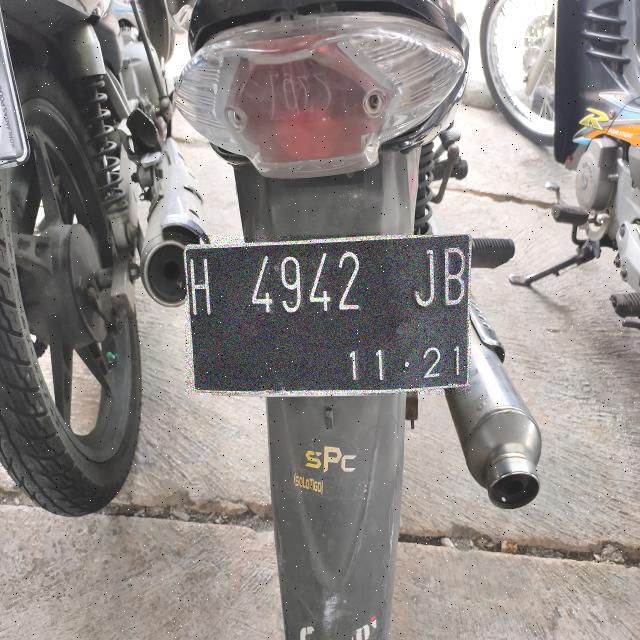plate: (185, 235, 470, 393)
